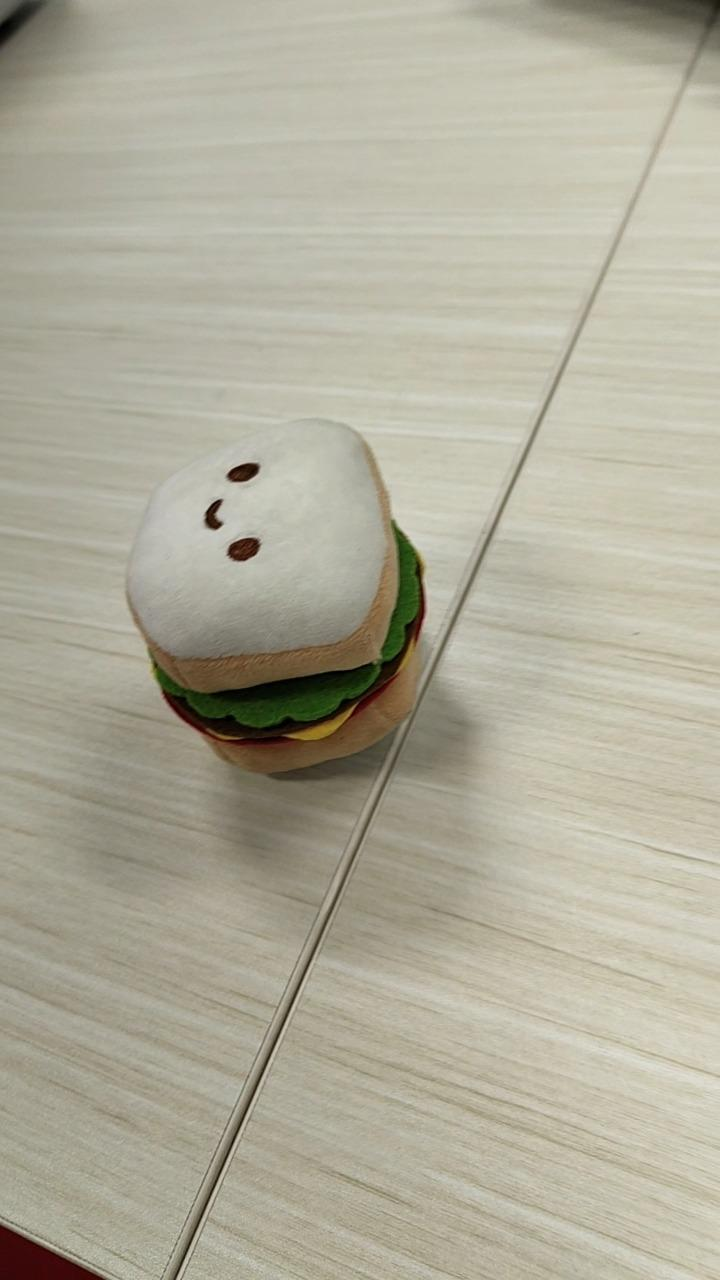objects: (123, 414, 427, 775)
